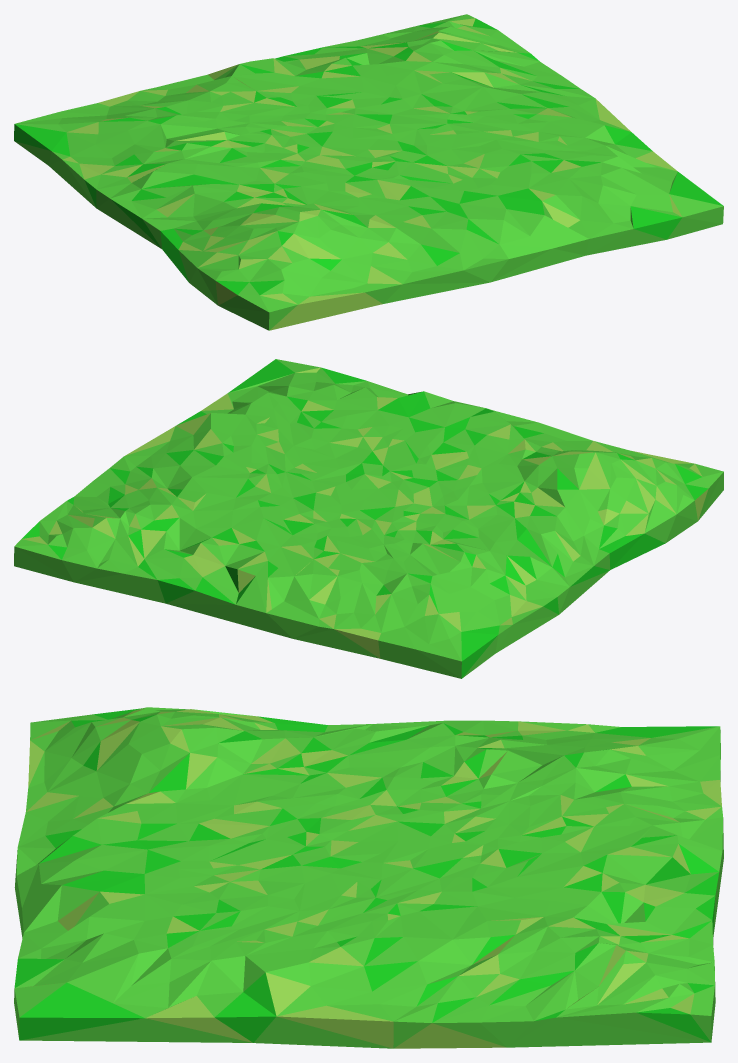
Rendered from Ground.fbx.
3 views of the same model, one above another, from view 1: azimuth 30°, elevation 25°; view 2: azimuth 150°, elevation 25°; view 3: azimuth 270°, elevation 25° (orthographic). The views are drawn at different scales.
Visible parts, largest first — view 1: Ground; view 2: Ground; view 3: Ground.
Boxes of the visible parts, x1,y1,x2,y2 form: Ground: [14, 14, 723, 330]; Ground: [14, 359, 723, 678]; Ground: [14, 707, 723, 1048].
Size of the model in its own units: 374 by 42.15 by 362.
